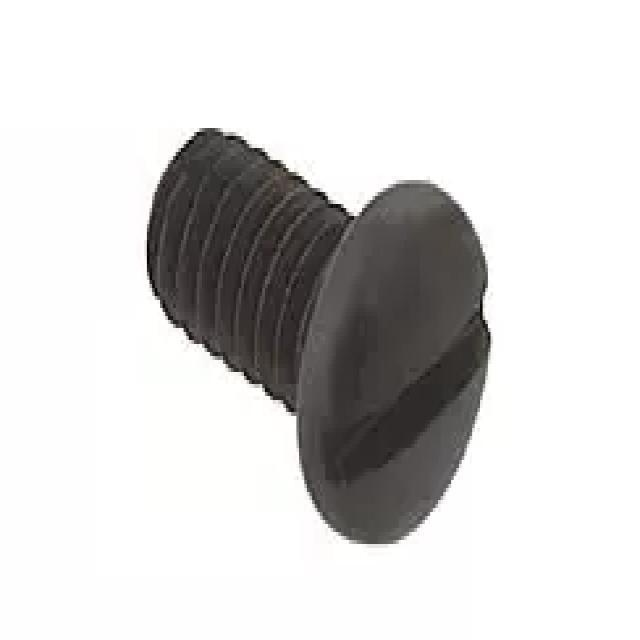duz: (296, 181, 492, 547)
